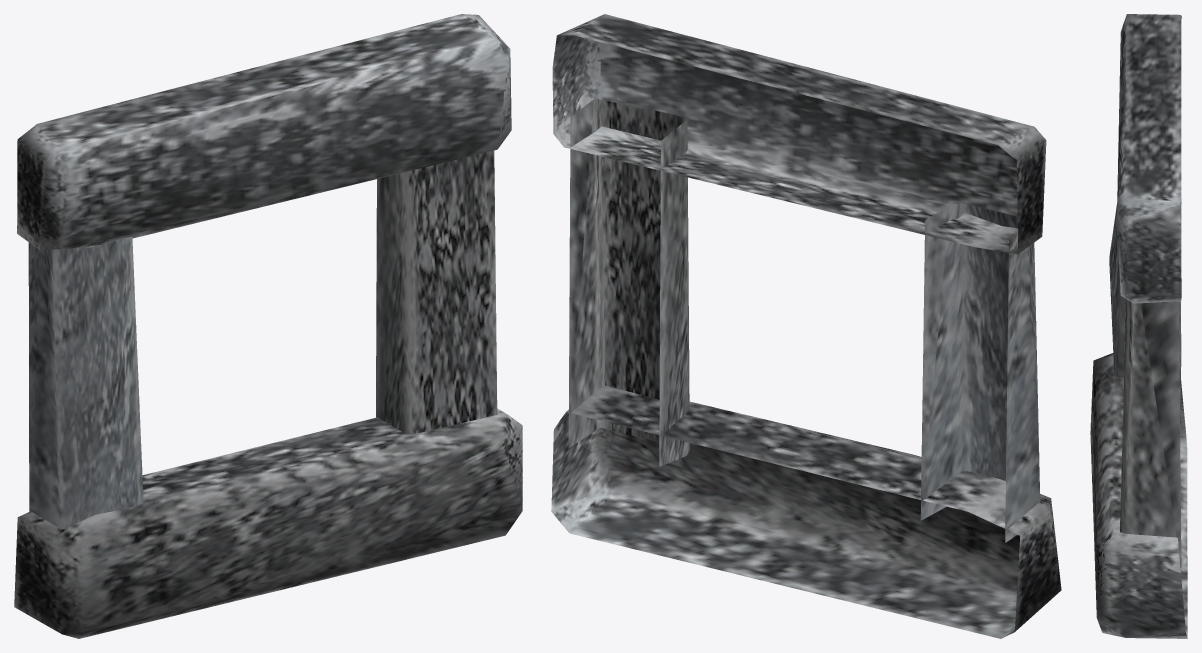
File: Stone Window Frame.FBX
The picture shows the model from 3 angles, left to right: view 1: azimuth 30°, elevation 25°; view 2: azimuth 150°, elevation 25°; view 3: azimuth 270°, elevation 25°; orthographic projection. The views are drawn at different scales.
Visible parts, largest first — view 1: Stone Window Frame; view 2: Stone Window Frame; view 3: Stone Window Frame.
Boxes of the visible parts, x1,y1,x2,y2 form: Stone Window Frame: (14,14,522,638); Stone Window Frame: (551,14,1061,638); Stone Window Frame: (1090,14,1187,638).
Size of the model in its own units: 85.62 by 17.25 by 87.09.
Materials: 1 (1 with a texture image).
